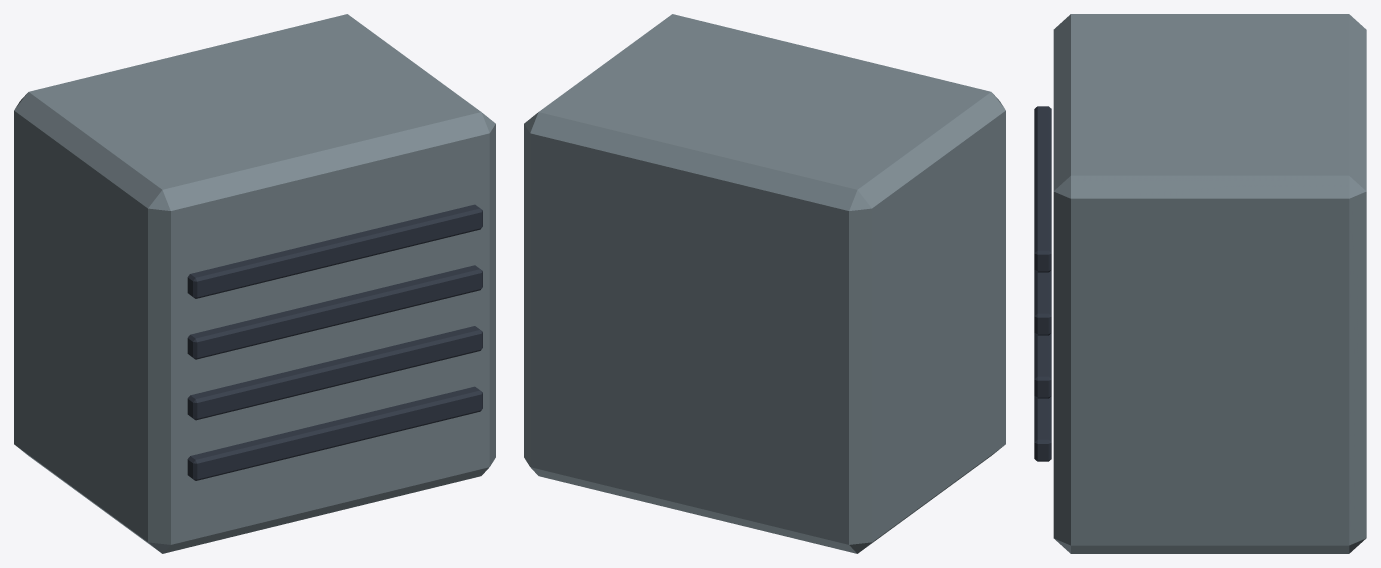
File: street_020_seed11.glb
The picture shows the model from 3 angles, left to right: view 1: azimuth 30°, elevation 25°; view 2: azimuth 150°, elevation 25°; view 3: azimuth 270°, elevation 25°; orthographic projection. The views are drawn at different scales.
Parts seen in each view (by area): view 1: street_020_seed11; view 2: street_020_seed11; view 3: street_020_seed11.
Boxes of the visible parts, x1,y1,x2,y2 form: street_020_seed11: [14, 14, 495, 553]; street_020_seed11: [524, 14, 1005, 553]; street_020_seed11: [1034, 14, 1366, 553].
Bounding box in the file's own units: 1.2 × 1.2 × 0.955.
